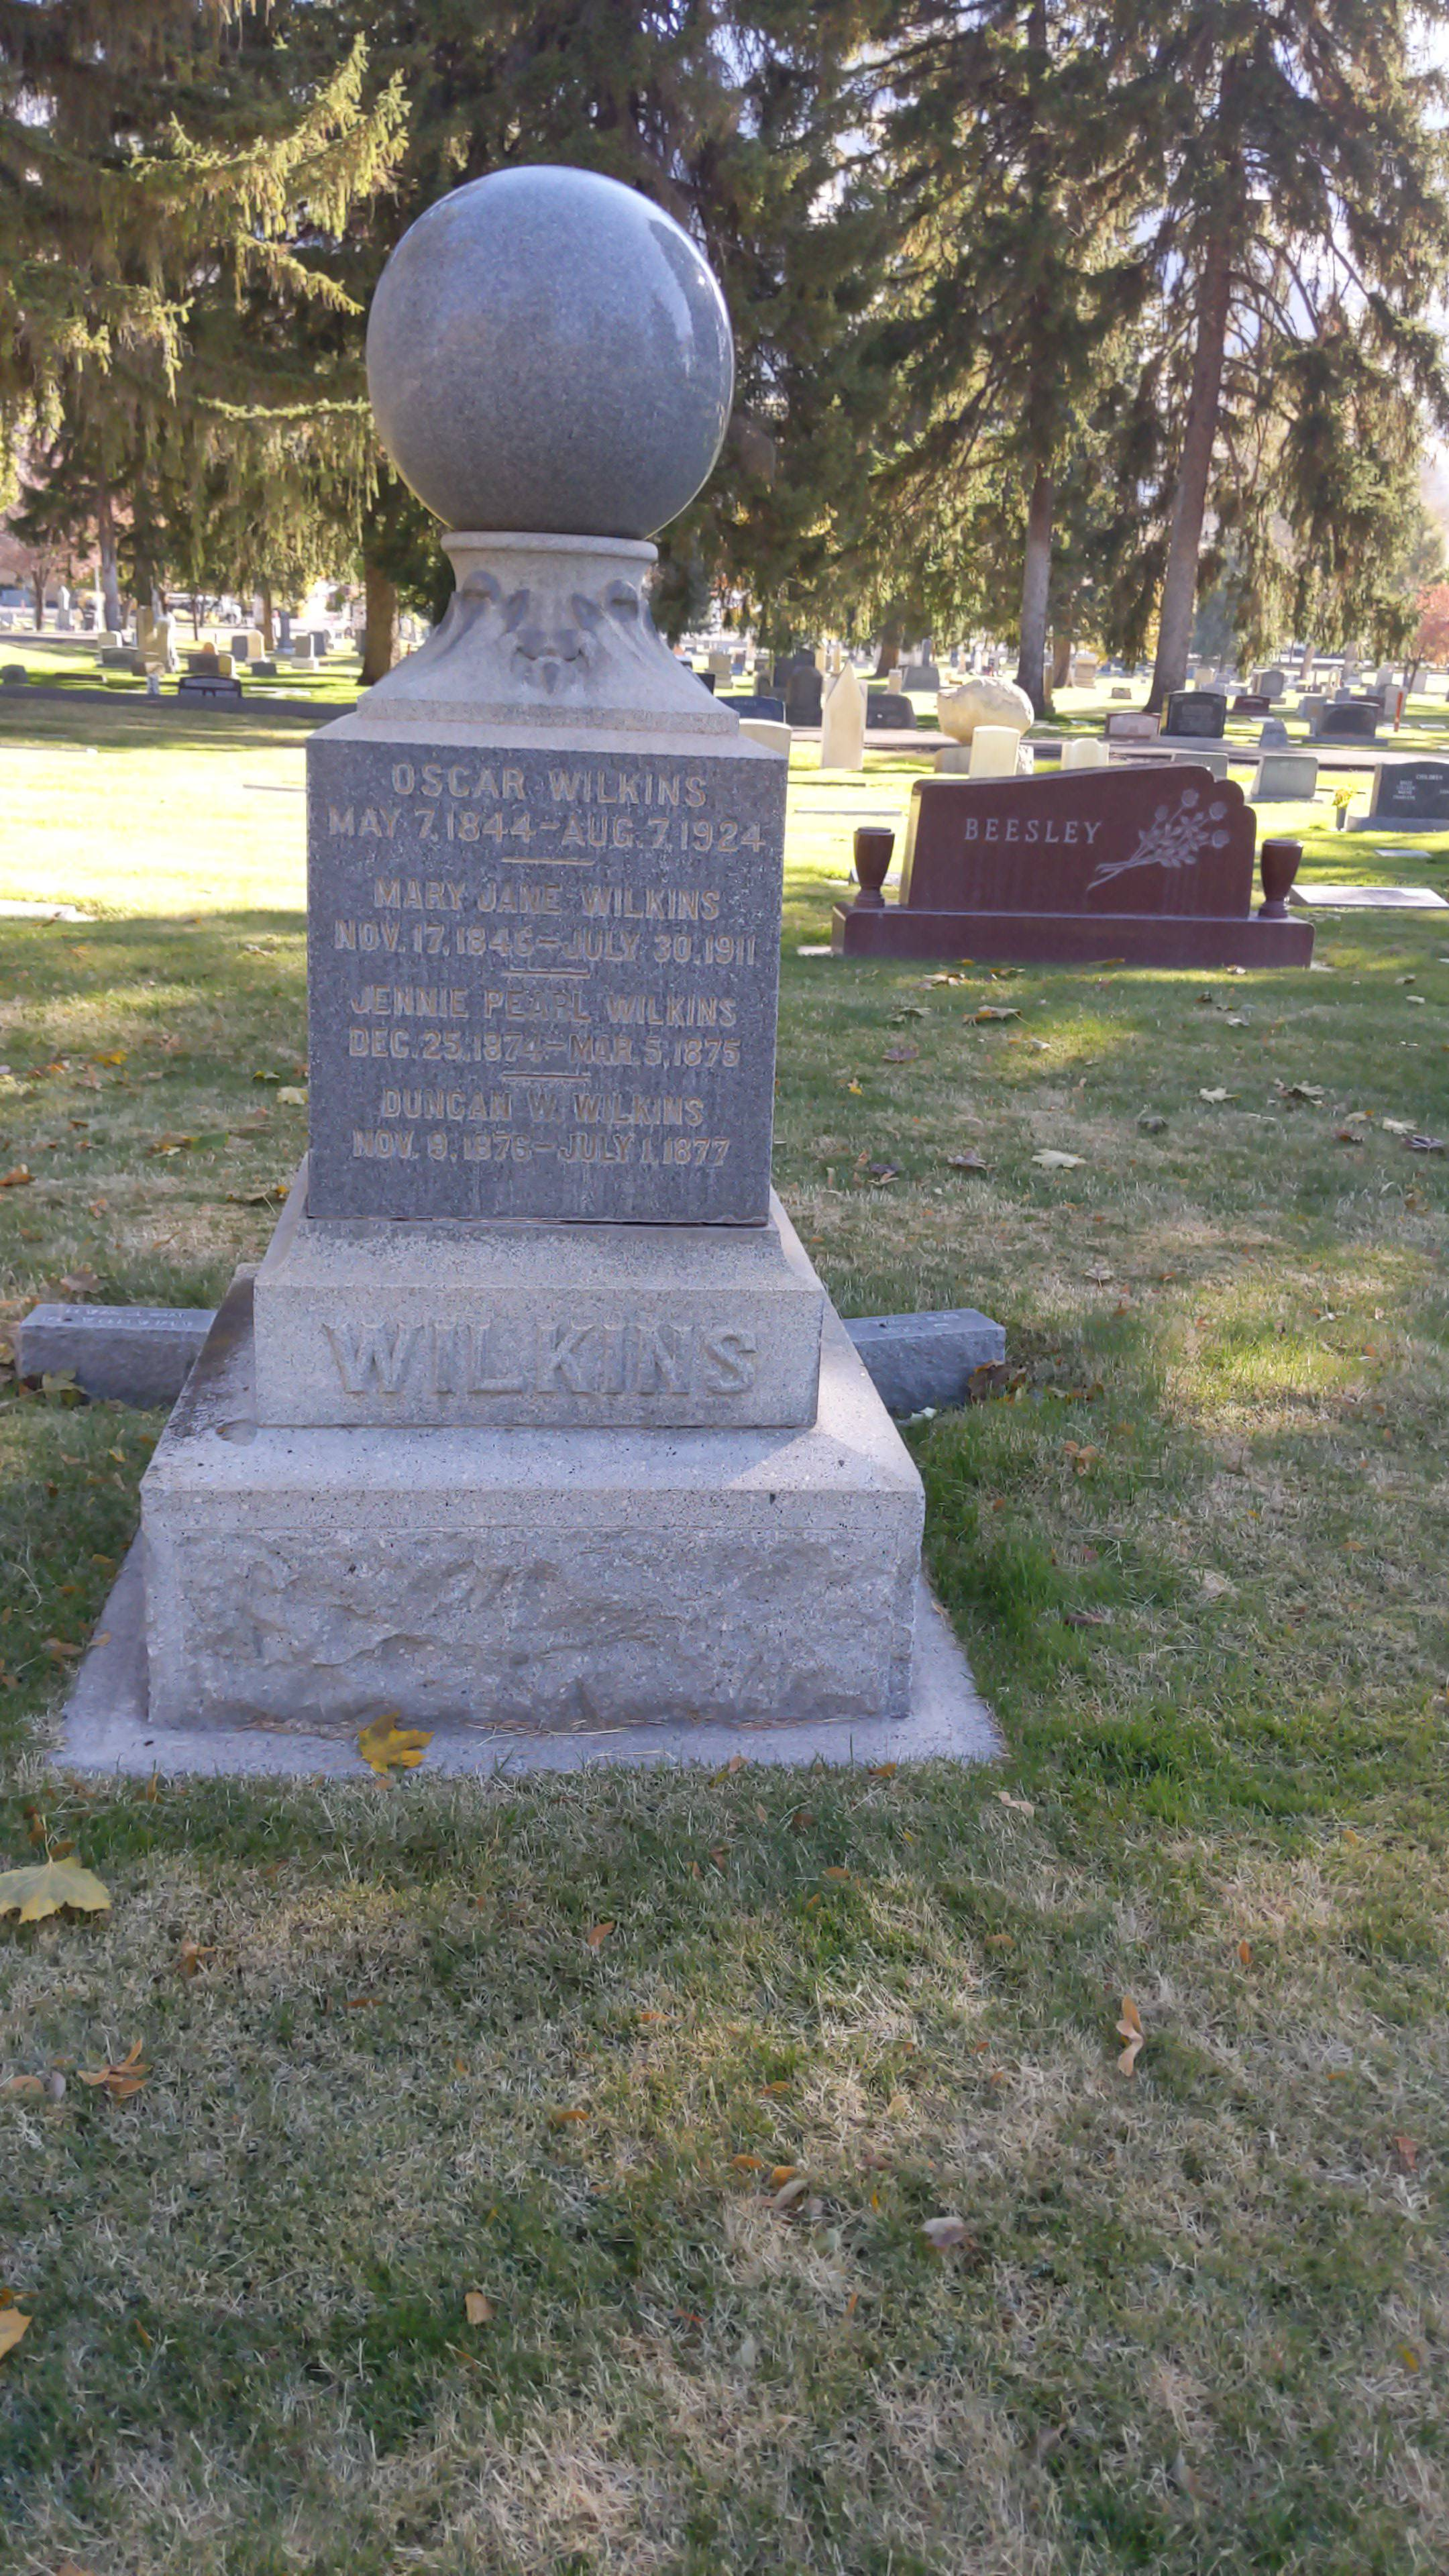obelisk: (255, 165, 817, 1421)
